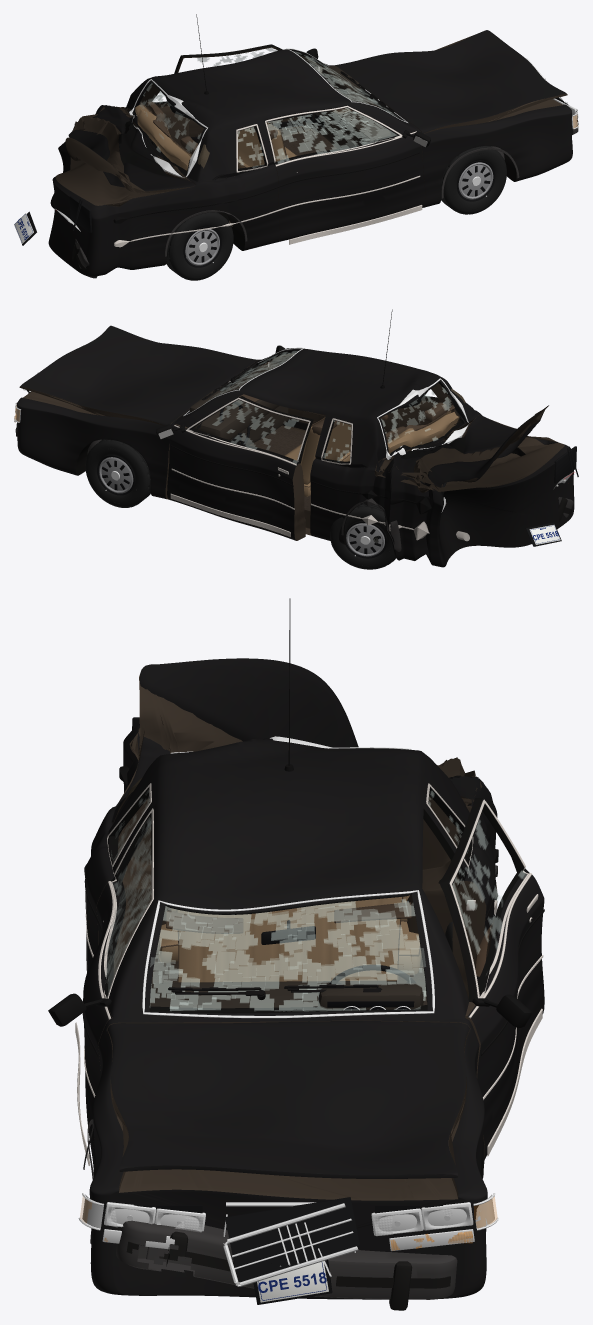
Rendered from coupe84_rear_corner_d2.glb.
The picture shows the model from 3 angles, top to bottom: view 1: azimuth 30°, elevation 25°; view 2: azimuth 150°, elevation 25°; view 3: azimuth 270°, elevation 25°; orthographic projection. The views are drawn at different scales.
Visible parts, largest first — view 1: Body, Hood, Door_FR, Interior, Trunk, Wheel_RR_mesh, Wheel_FR_mesh, Glass, Glass_FR, Trim_FR, Trim, Ends (+2 smaller); view 2: Body, Hood, Door_FL, Interior, Trunk, Wheel_FL_mesh, Wheel_RL_mesh, Glass, Trim_FL, Trim, Ends, Glass_FL (+1 smaller); view 3: Body, Hood, Interior, Glass, Ends, Trunk, Door_FL, Bumper_F, Door_FR, Trim_FL, Trim, Trim_FR (+3 smaller).
Part boxes in pixels (left/top/right/bottom): Body: left=48, top=49, right=572, bottom=276; Hood: left=332, top=30, right=567, bottom=133; Door_FR: left=264, top=105, right=425, bottom=241; Interior: left=135, top=65, right=394, bottom=170; Trunk: left=65, top=105, right=195, bottom=193; Wheel_RR_mesh: left=166, top=212, right=233, bottom=280; Wheel_FR_mesh: left=441, top=146, right=506, bottom=214; Glass: left=129, top=48, right=407, bottom=177; Glass_FR: left=265, top=106, right=398, bottom=166; Trim_FR: left=265, top=105, right=430, bottom=244; Trim: left=113, top=14, right=519, bottom=256; Ends: left=14, top=58, right=578, bottom=245; Body: left=17, top=348, right=574, bottom=567; Hood: left=19, top=325, right=258, bottom=425; Door_FL: left=167, top=396, right=313, bottom=540; Interior: left=190, top=367, right=459, bottom=496; Trunk: left=380, top=405, right=548, bottom=487; Wheel_FL_mesh: left=85, top=439, right=150, bottom=507; Wheel_RL_mesh: left=330, top=503, right=395, bottom=569; Glass: left=183, top=347, right=469, bottom=465; Trim_FL: left=156, top=397, right=310, bottom=536; Trim: left=202, top=309, right=432, bottom=551; Ends: left=14, top=372, right=578, bottom=546; Glass_FL: left=190, top=397, right=310, bottom=466; Body: left=85, top=725, right=497, bottom=1299; Hood: left=107, top=1021, right=469, bottom=1178; Interior: left=150, top=895, right=427, bottom=1010; Glass: left=110, top=736, right=468, bottom=1018; Ends: left=78, top=717, right=498, bottom=1304; Trunk: left=116, top=658, right=483, bottom=806; Door_FL: left=438, top=798, right=544, bottom=1159; Bumper_F: left=116, top=1220, right=457, bottom=1310; Door_FR: left=83, top=807, right=155, bottom=1157; Trim_FL: left=449, top=799, right=544, bottom=1156; Trim: left=83, top=598, right=498, bottom=1243; Trim_FR: left=48, top=808, right=153, bottom=1165.
Bounding box in the file's own units: 5.34 × 2.19 × 2.18.
Materials: 34 (5 with a texture image).
